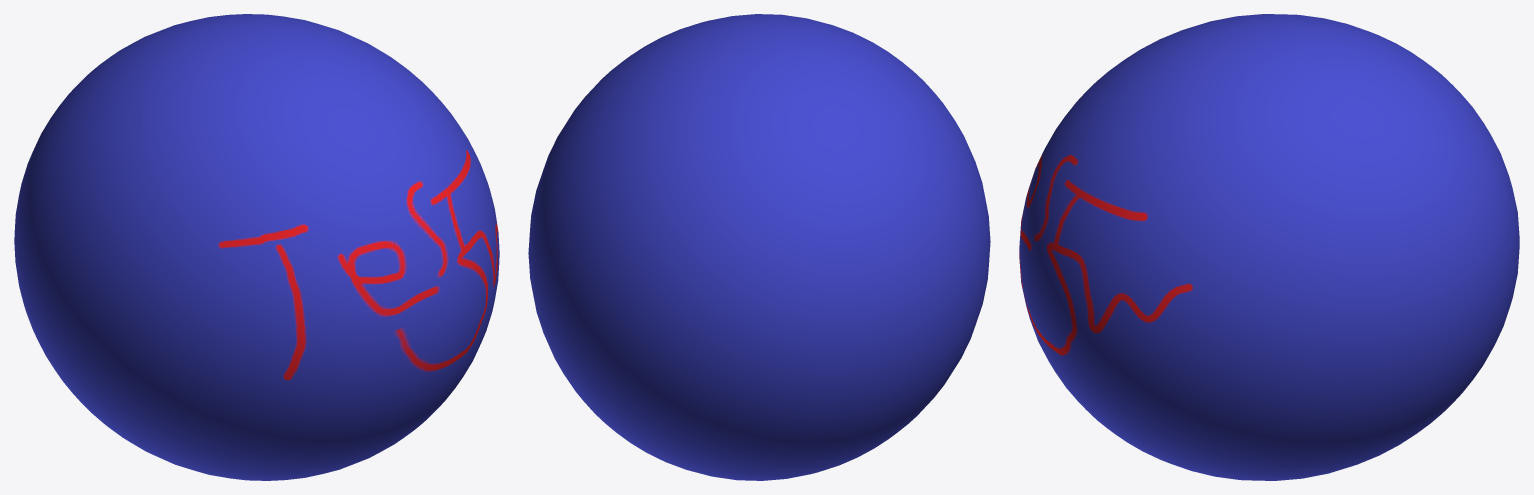
3 views of the same model, side by side, from view 1: azimuth 30°, elevation 25°; view 2: azimuth 150°, elevation 25°; view 3: azimuth 270°, elevation 25° (orthographic).
Visible parts, largest first — view 1: mesh_id46; view 2: mesh_id46; view 3: mesh_id46.
Part boxes in pixels (x1=…): mesh_id46: x1=14, y1=14, x2=499, y2=480; mesh_id46: x1=528, y1=14, x2=990, y2=480; mesh_id46: x1=1019, y1=14, x2=1519, y2=480.
Bounding box in the file's own units: 362 × 360 × 385.
Materials: 1 (1 with a texture image).
